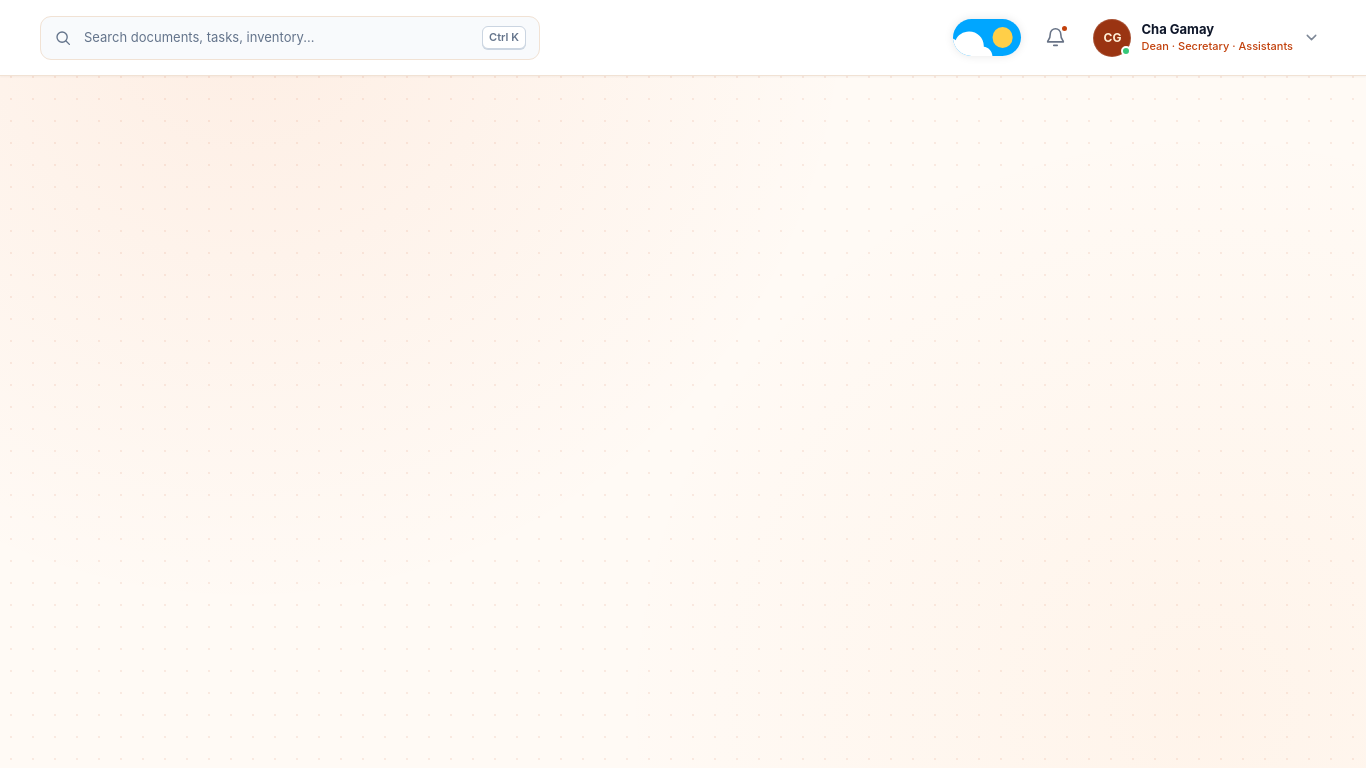
Test: shows current alerts, marks them read, and navigates from an alert
Click the button named "Notifications, 2 unread" at (1056, 38), box 1036,18 -> 1076,58
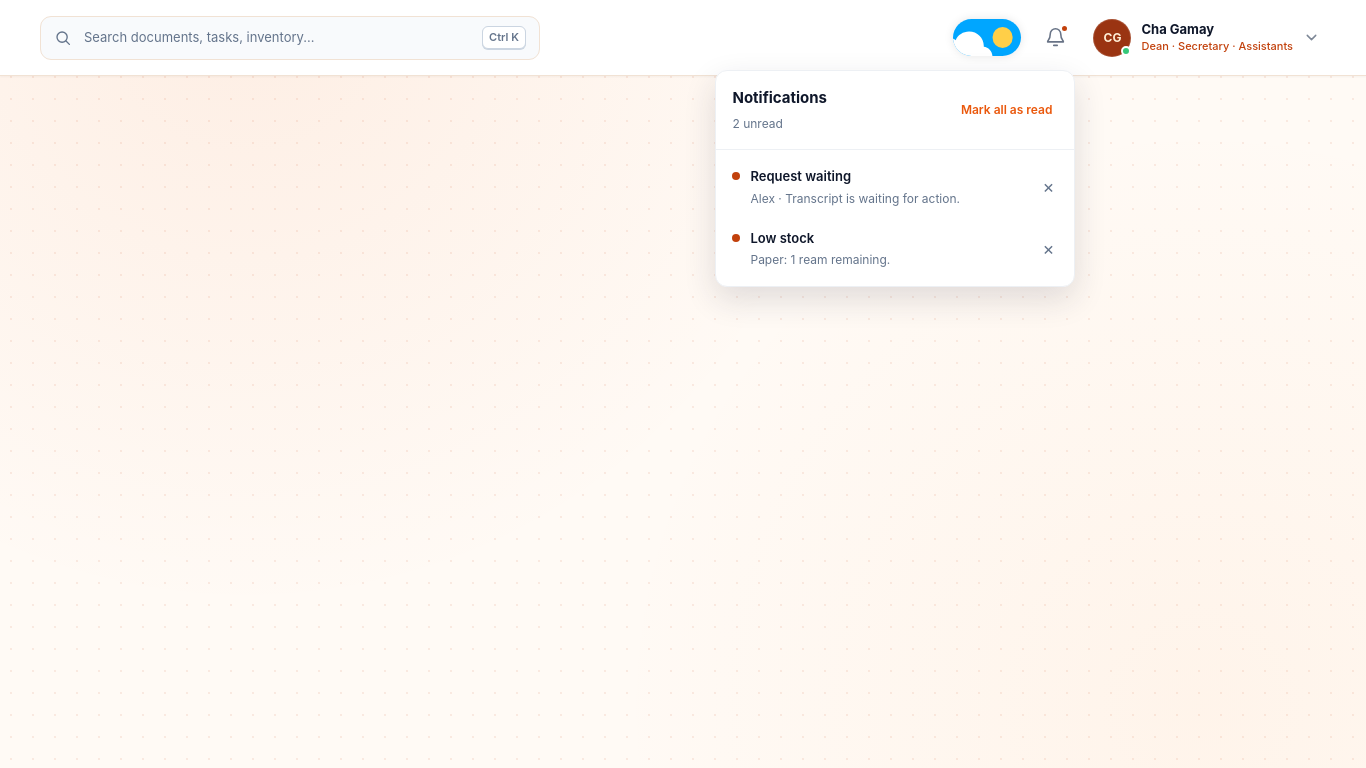
Now the dialog "Notifications" is shown, box 716,70 -> 1076,287
Now the text "Alex · Transcript is waiting for action." is shown, box 750,190 -> 960,207
Now the text "Paper: 1 ream remaining." is shown, box 750,251 -> 890,269
Click the button "Request waiting Alex · Transcript is waiting for action." at (801, 176), box 722,156 -> 1034,218
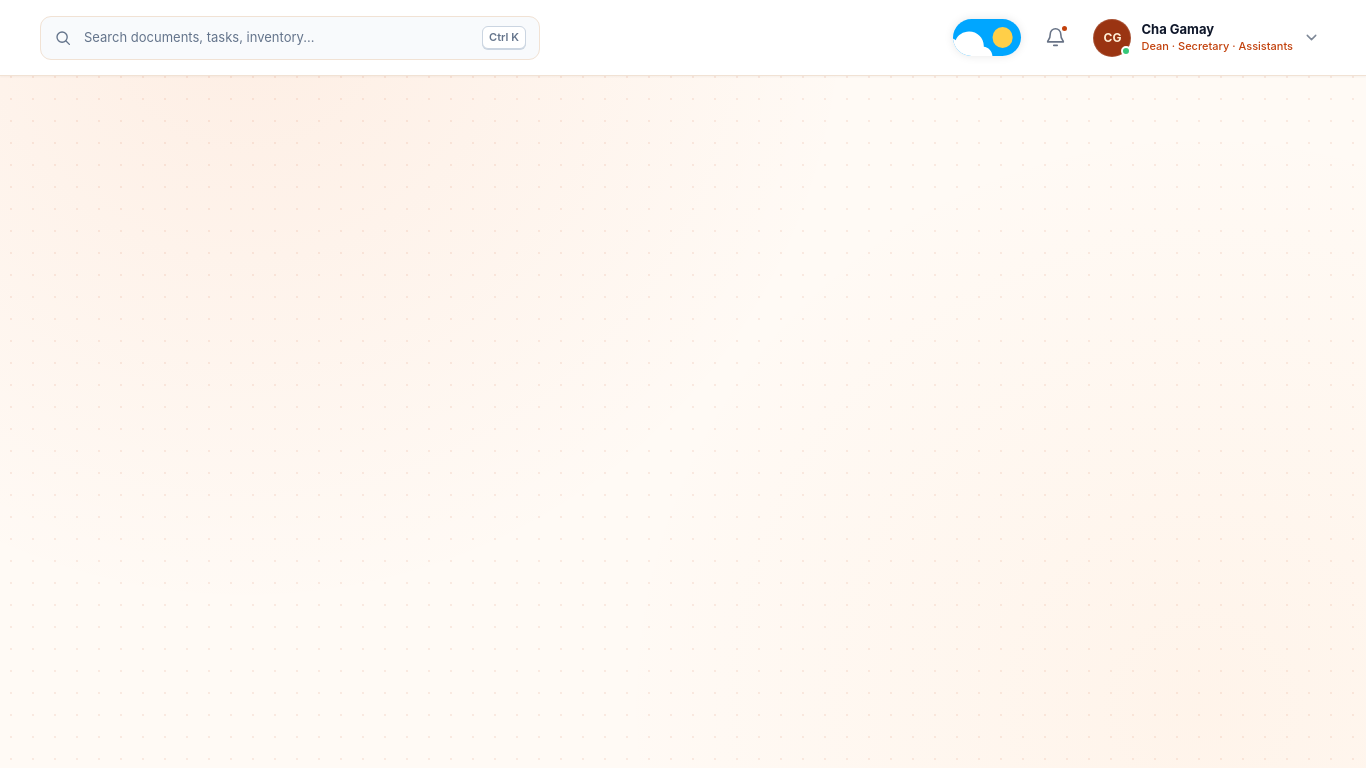
Expected: the button named "Notifications, 1 unread" is shown, 1036,18 -> 1076,58
Now the heading "Notifications" is gone
